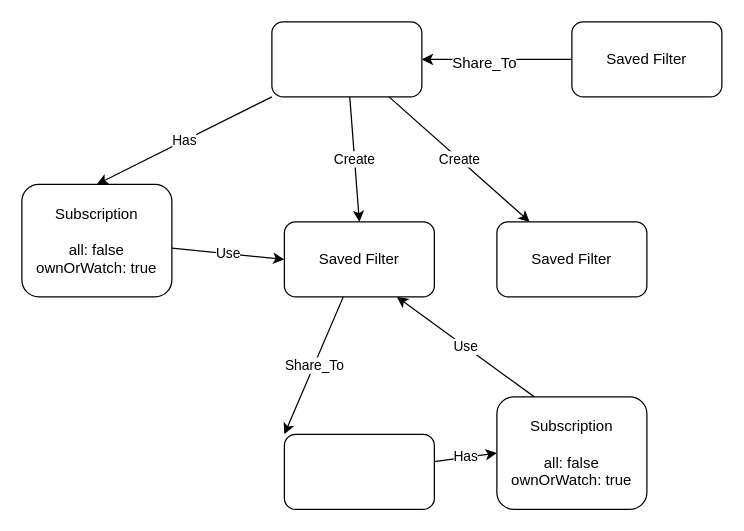
This 744x531 diagram has some shape labels left out. Each missing label, with the centre of its shape:
"User A" belongs at [346,59].
"User B" belongs at [358,471].
